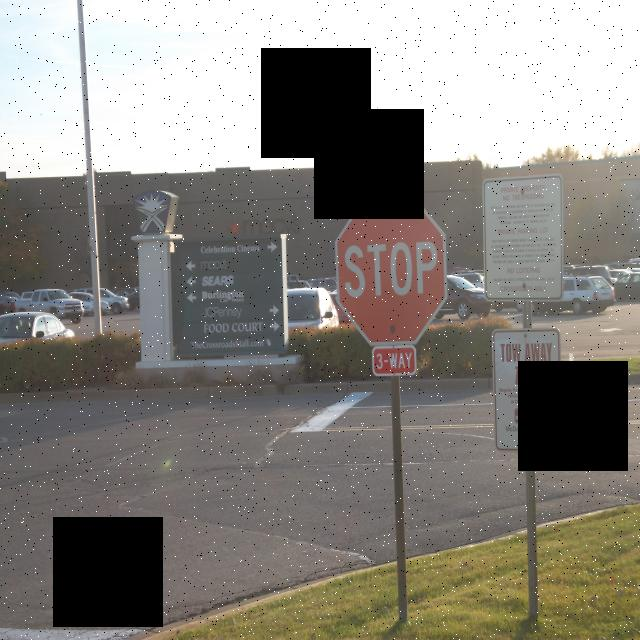regulatory: (476, 169, 569, 309), (491, 322, 572, 462), (370, 345, 418, 377)
stop: (331, 188, 454, 342)
